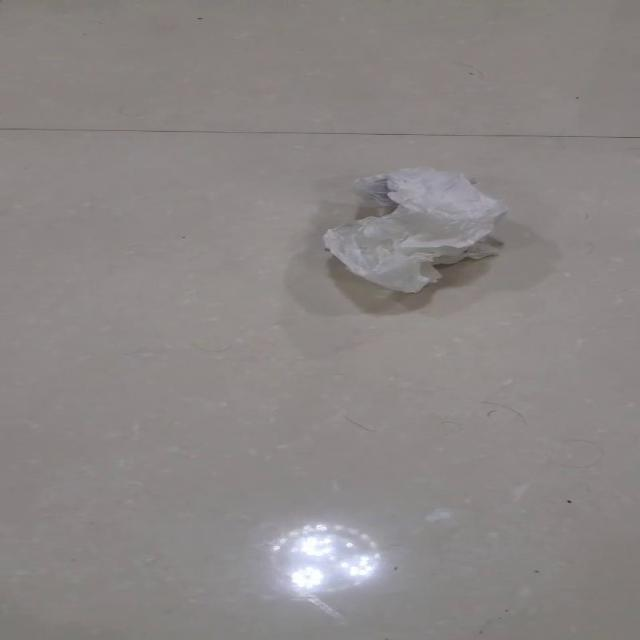plastic: (321, 165, 506, 294)
